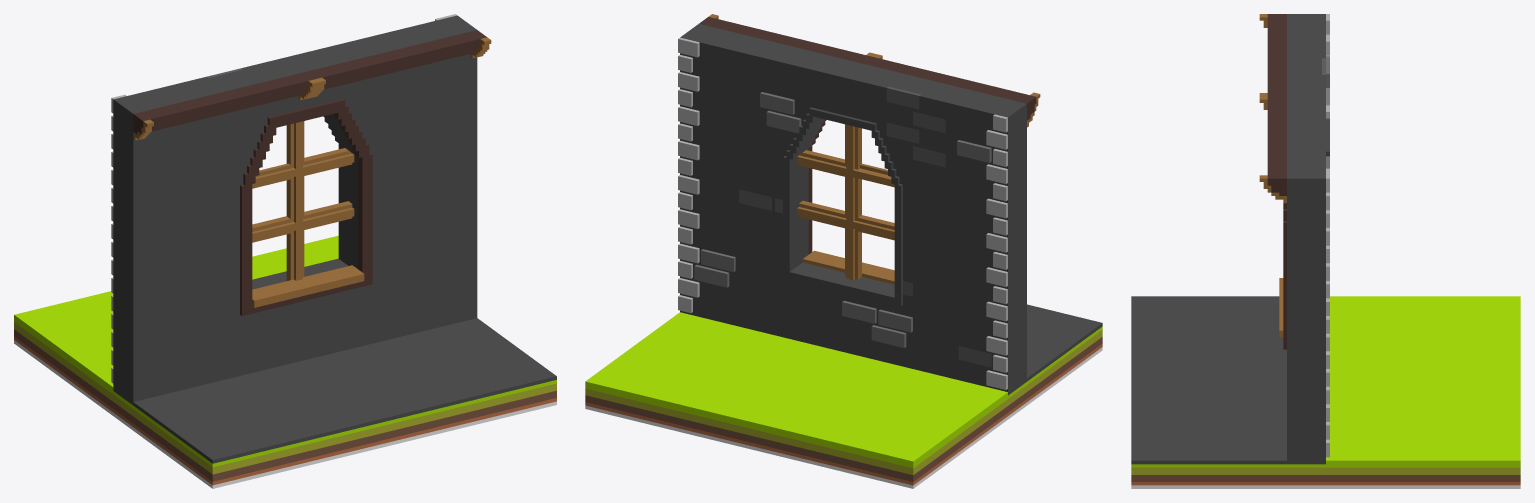
The model's file is House-9-House Wall Window.obj.
The picture shows the model from 3 angles, left to right: view 1: azimuth 30°, elevation 25°; view 2: azimuth 150°, elevation 25°; view 3: azimuth 270°, elevation 25°; orthographic projection. The views are drawn at different scales.
Visible parts, largest first — view 1: House Wall Window; view 2: House Wall Window; view 3: House Wall Window.
Part boxes in pixels (x1=…): House Wall Window: x1=14, y1=14, x2=556, y2=488; House Wall Window: x1=585, y1=14, x2=1102, y2=488; House Wall Window: x1=1131, y1=14, x2=1520, y2=488.
Bounding box in the file's own units: 10 × 8.8 × 10.
Materials: 1 (1 with a texture image).
